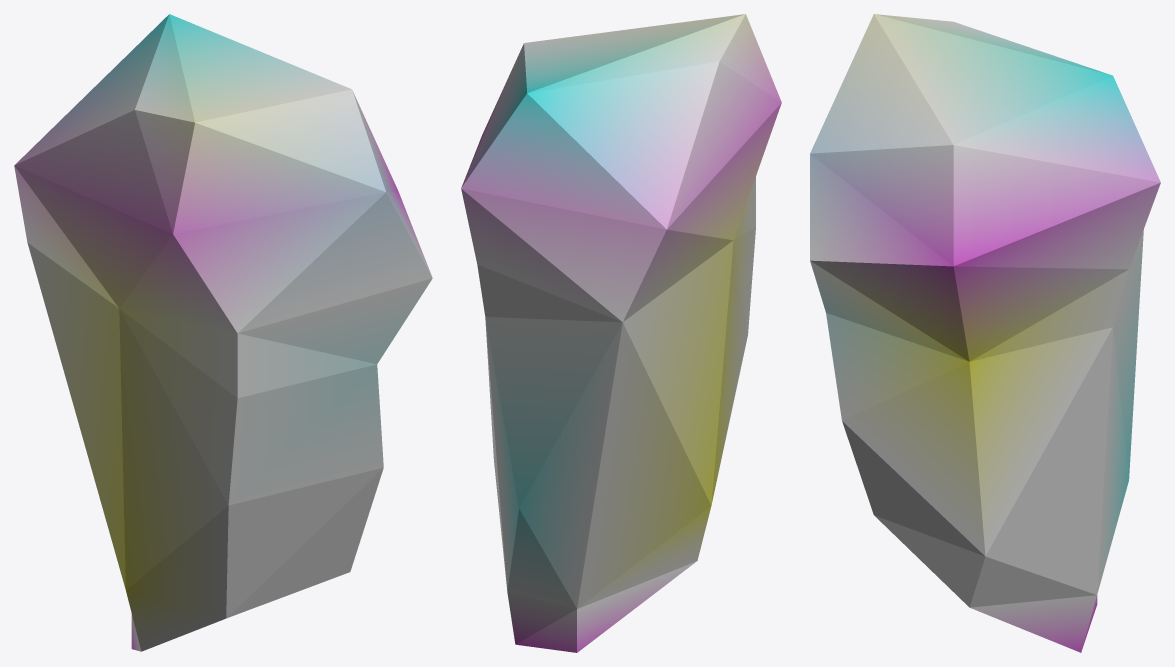
3 renders of one model, left to right at view 1: azimuth 30°, elevation 25°; view 2: azimuth 150°, elevation 25°; view 3: azimuth 270°, elevation 25°, orthographic. The views are drawn at different scales.
Visible parts, largest first — view 1: model_1137; view 2: model_1137; view 3: model_1137.
Boxes of the visible parts, x1,y1,x2,y2 form: model_1137: [14, 14, 432, 651]; model_1137: [461, 14, 781, 652]; model_1137: [810, 14, 1160, 652].
Bounding box in the file's own units: 19 × 40 × 22.
